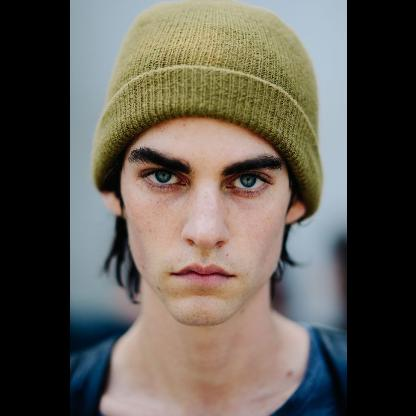Male: (104, 111, 302, 324)
